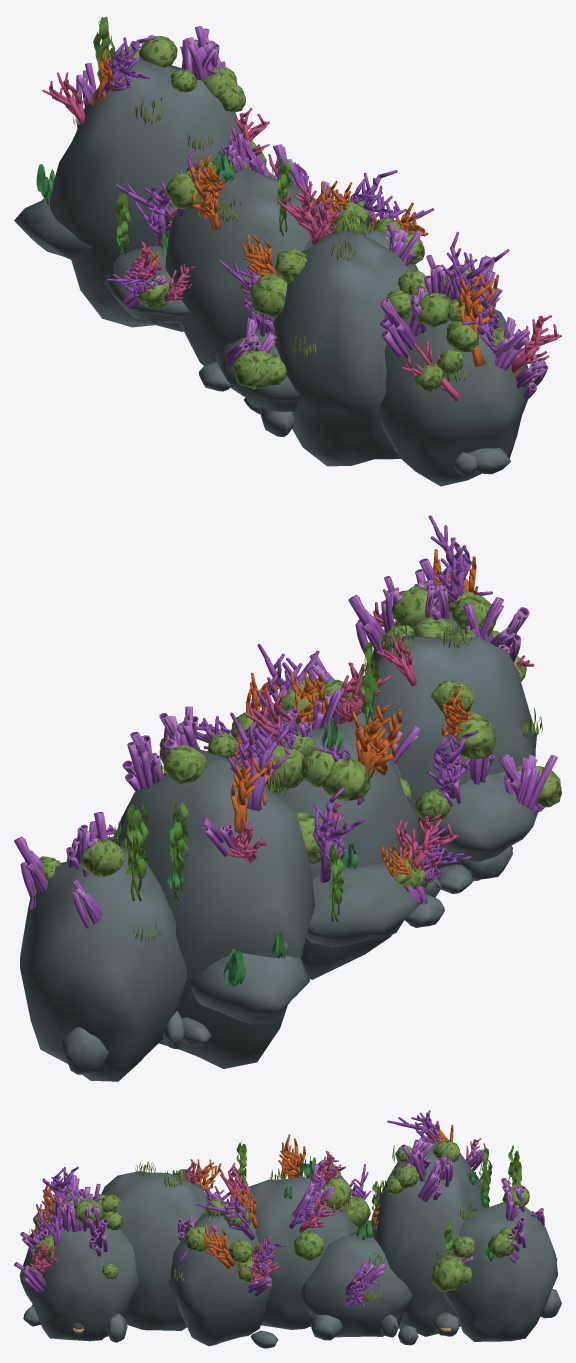
File: wall.glb
3 views of the same model, one above another, from view 1: azimuth 30°, elevation 25°; view 2: azimuth 150°, elevation 25°; view 3: azimuth 270°, elevation 25° (orthographic). The views are drawn at different scales.
Visible parts, largest first — view 1: wall_rock, wall_coral, wall_coral_low, wall_rock_low, wall_vegetation, wall_vegetation_low; view 2: wall_rock, wall_coral, wall_coral_low, wall_rock_low, wall_vegetation, wall_vegetation_low; view 3: wall_rock, wall_coral, wall_coral_low, wall_rock_low, wall_vegetation, wall_vegetation_low.
Boxes of the visible parts, x1,y1,x2,y2 form: wall_rock: [14, 58, 532, 486]; wall_coral: [42, 26, 561, 401]; wall_coral_low: [49, 26, 560, 400]; wall_rock_low: [14, 194, 532, 475]; wall_vegetation: [36, 17, 471, 382]; wall_vegetation_low: [36, 16, 470, 382]; wall_rock: [20, 615, 537, 1081]; wall_coral: [14, 515, 561, 928]; wall_coral_low: [15, 516, 561, 927]; wall_rock_low: [41, 714, 535, 1074]; wall_vegetation: [96, 623, 542, 985]; wall_vegetation_low: [96, 622, 542, 986]; wall_rock: [21, 1140, 561, 1348]; wall_coral: [14, 1110, 544, 1332]; wall_coral_low: [14, 1111, 544, 1332]; wall_rock_low: [19, 1203, 560, 1348]; wall_vegetation: [28, 1139, 521, 1301]; wall_vegetation_low: [29, 1143, 521, 1300].
Bounding box in the file's own units: 10.8 × 10.13 × 23.7.
